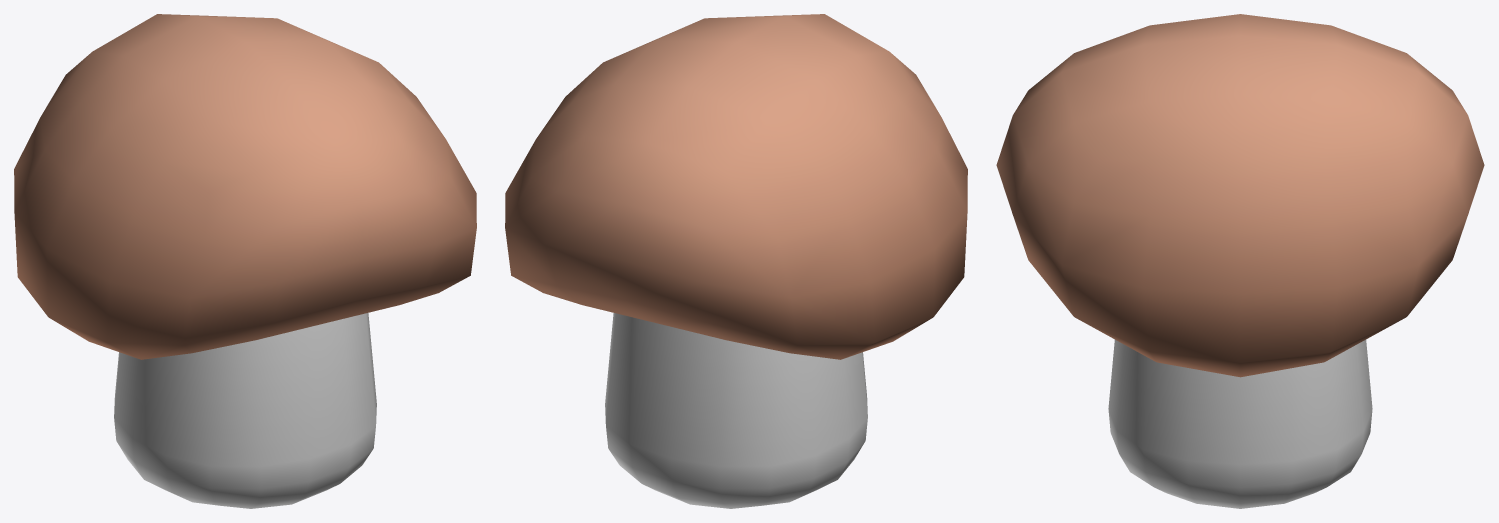
File: mushroom_1.fbx
The picture shows the model from 3 angles, left to right: view 1: azimuth 30°, elevation 25°; view 2: azimuth 150°, elevation 25°; view 3: azimuth 270°, elevation 25°; orthographic projection.
Visible parts, largest first — view 1: mushroom_1; view 2: mushroom_1; view 3: mushroom_1.
Part boxes in pixels (x1,y1,x2,y2): mushroom_1: (14,14,476,508); mushroom_1: (505,14,967,508); mushroom_1: (996,14,1484,508).
Size of the model in its own units: 58.85 by 62.45 by 61.89.
Materials: 1 (1 with a texture image).
